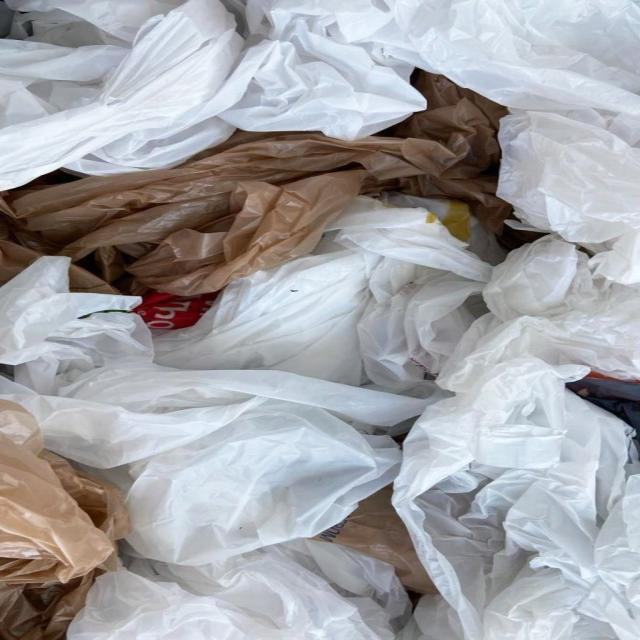Single-layer Plastic: (0, 256, 430, 565), (4, 71, 510, 290), (229, 0, 640, 254), (394, 236, 638, 640), (156, 196, 492, 391), (0, 0, 244, 189), (68, 539, 411, 640), (0, 400, 128, 639), (313, 485, 437, 594)
